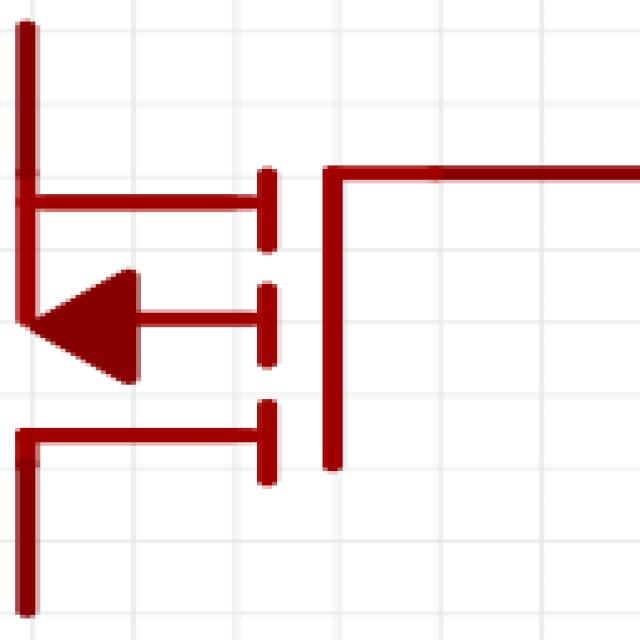pmos: (0, 39, 594, 640)
